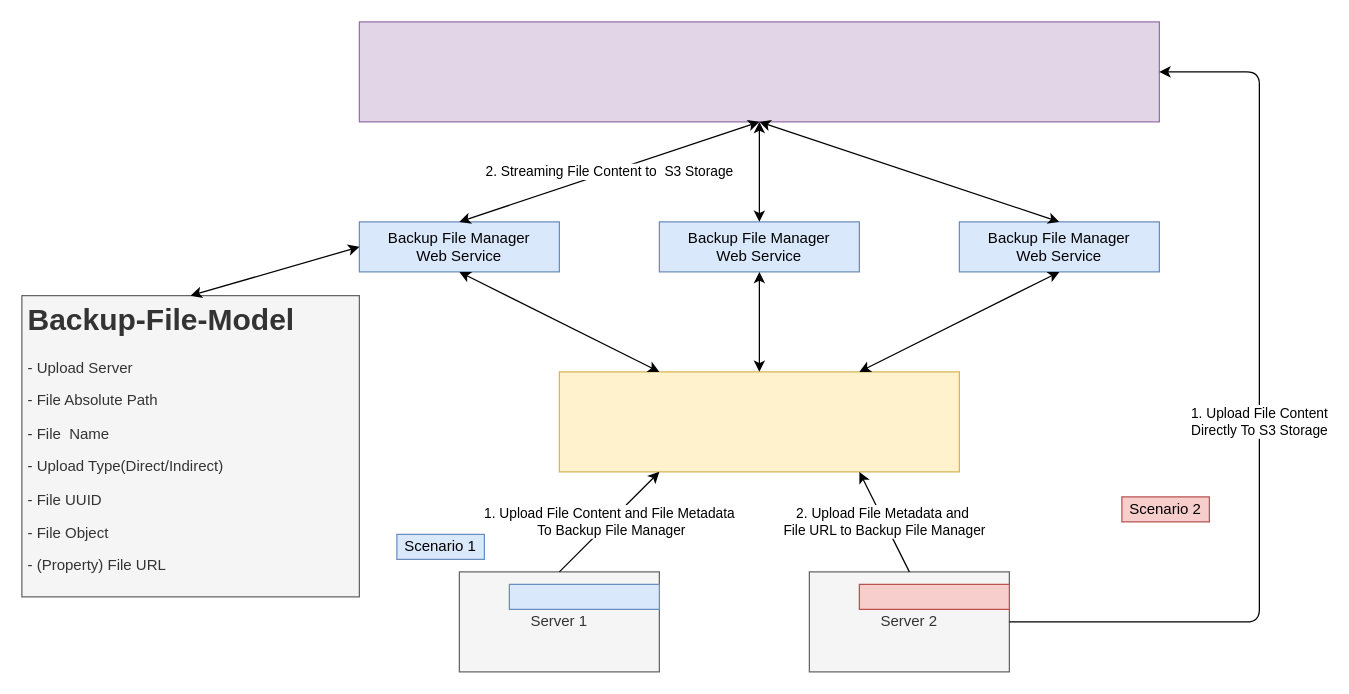
Some shapes in this 1349 by 694 pixel diagram are drawn without their labels. Here are the shapes that lost their labels. From the top down, the centre of each, then its label:
the point at 758,71: S3-Compatible Storage
the point at 758,421: Backup File Manager Load Balancer
the point at 583,596: backup-file-agent-1
the point at 933,596: backup-file-agent-2
